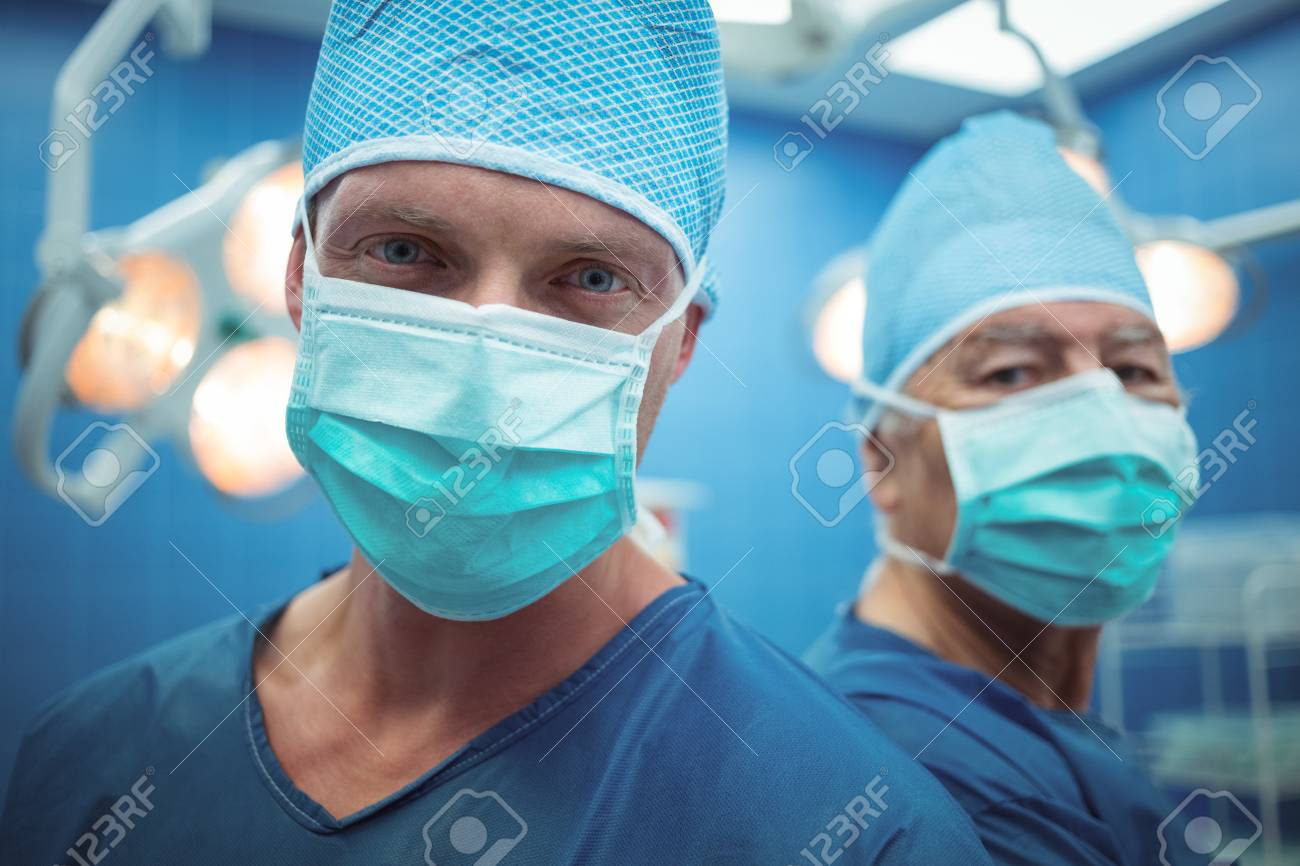mask: (281, 294, 661, 602), (943, 407, 1206, 615)
